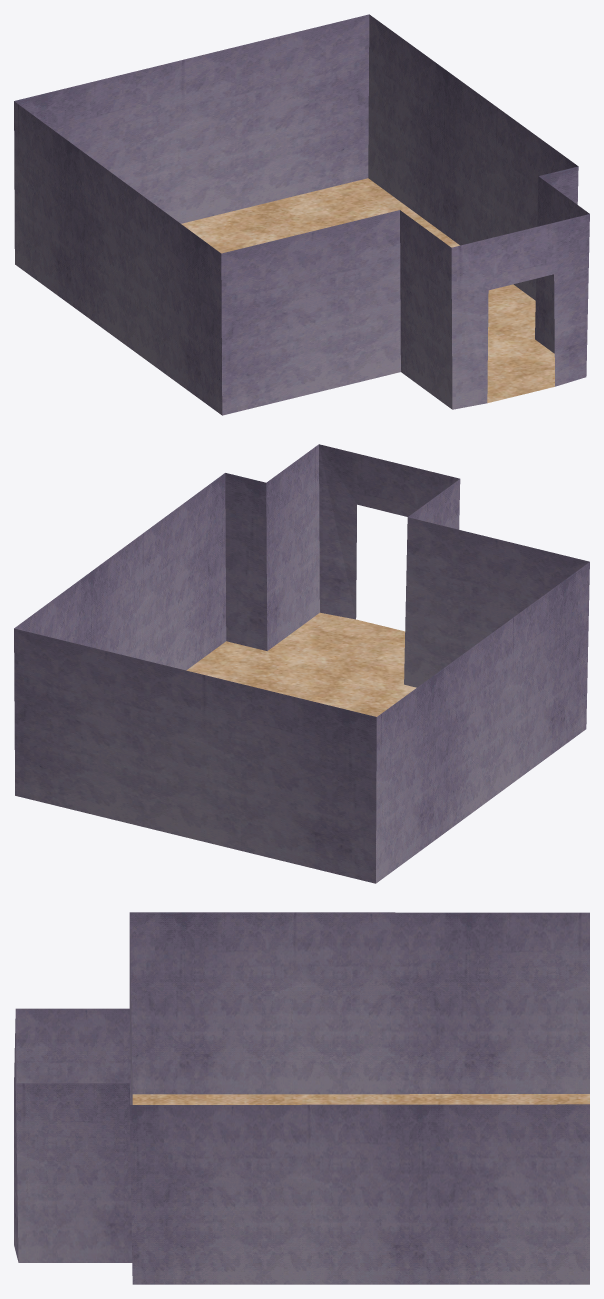
File: carls_faux.obj
3 views of the same model, one above another, from view 1: azimuth 30°, elevation 25°; view 2: azimuth 150°, elevation 25°; view 3: azimuth 270°, elevation 25° (orthographic). The views are drawn at different scales.
Parts seen in each view (by area): view 1: carls_faux; view 2: carls_faux; view 3: carls_faux.
Part boxes in pixels (bbox=[...]): carls_faux: bbox=[14, 14, 589, 415]; carls_faux: bbox=[14, 444, 589, 883]; carls_faux: bbox=[14, 912, 589, 1284].
Bounding box in the file's own units: 8 × 3.5 × 10.1.
Materials: 2 (2 with a texture image).
